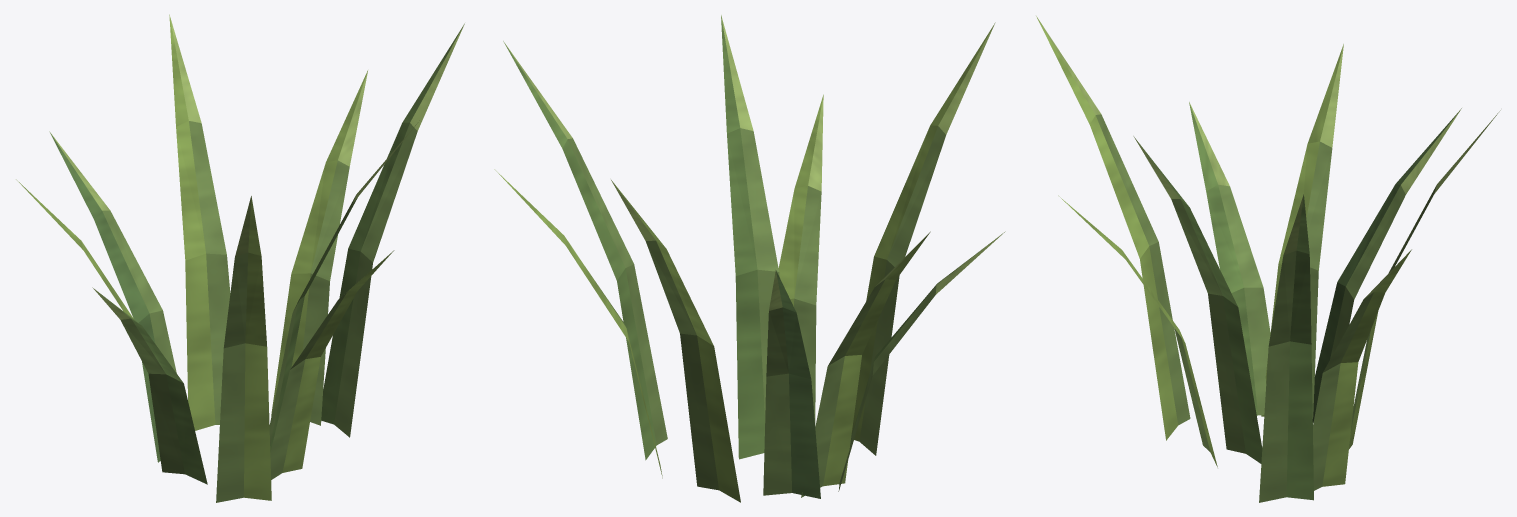
Rendered from grass_clump_short_04.fbx.
3 renders of one model, left to right at view 1: azimuth 30°, elevation 25°; view 2: azimuth 150°, elevation 25°; view 3: azimuth 270°, elevation 25°, orthographic. The views are drawn at different scales.
Parts seen in each view (by area): view 1: grass_clump_short_04; view 2: grass_clump_short_04; view 3: grass_clump_short_04.
Part boxes in pixels (x1,y1,x2,y2): grass_clump_short_04: [16, 14, 464, 502]; grass_clump_short_04: [494, 15, 1005, 502]; grass_clump_short_04: [1036, 16, 1500, 502].
Size of the model in its own units: 59.4 by 49 by 54.
Materials: 1 (1 with a texture image).
